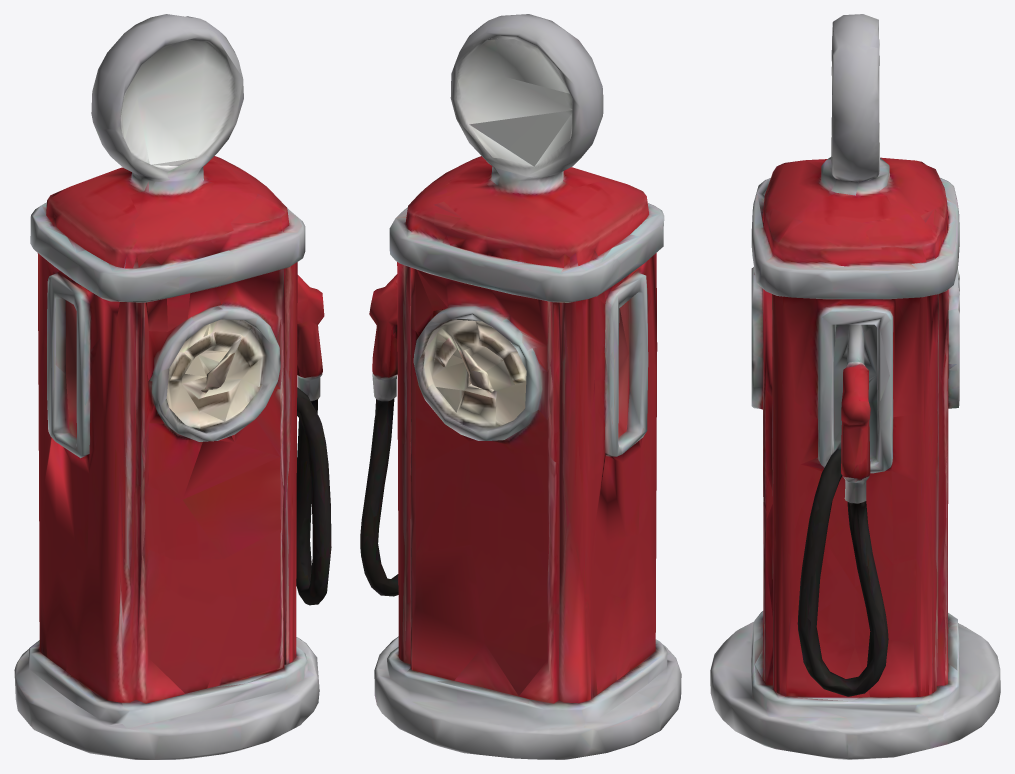
The model's file is prop_mile_gaspump.glb.
3 views of the same model, side by side, from view 1: azimuth 30°, elevation 25°; view 2: azimuth 150°, elevation 25°; view 3: azimuth 270°, elevation 25° (orthographic).
Parts seen in each view (by area): view 1: tripo_node_76db7583-9325-4b7d-adbf-857f16856b63; view 2: tripo_node_76db7583-9325-4b7d-adbf-857f16856b63; view 3: tripo_node_76db7583-9325-4b7d-adbf-857f16856b63.
Boxes of the visible parts, x1=… form: tripo_node_76db7583-9325-4b7d-adbf-857f16856b63: x1=14, y1=14, x2=331, y2=759; tripo_node_76db7583-9325-4b7d-adbf-857f16856b63: x1=360, y1=14, x2=681, y2=759; tripo_node_76db7583-9325-4b7d-adbf-857f16856b63: x1=710, y1=14, x2=1000, y2=759.
Size of the model in its own units: 0.4343 by 0.9795 by 0.3811.
1 material, 1 textured.
